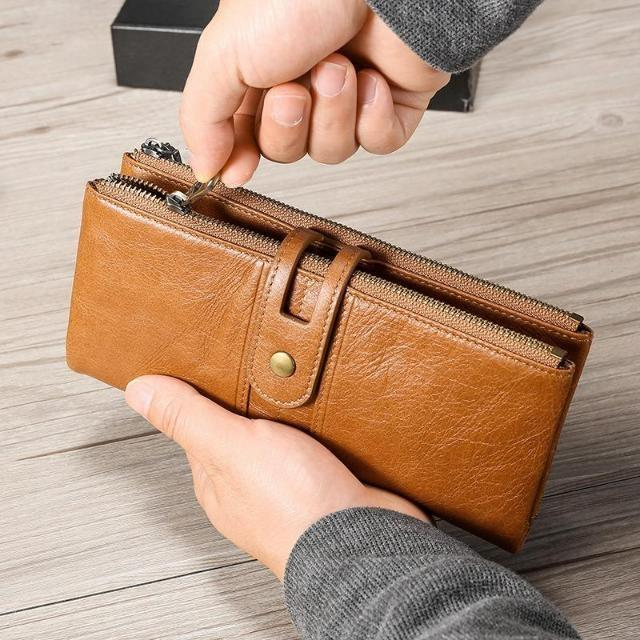Wallet: (65, 142, 592, 554)
